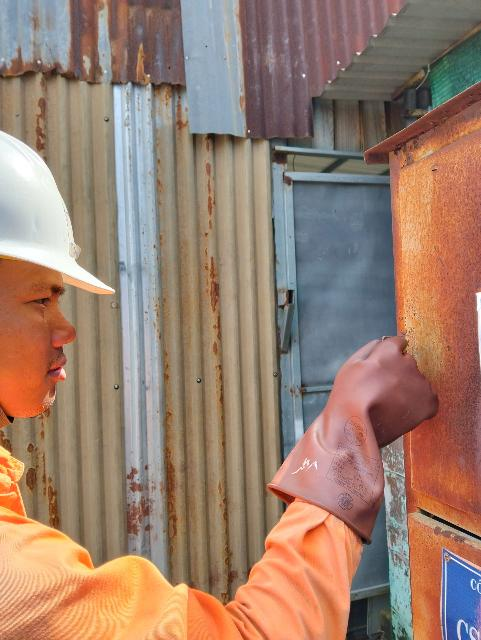gloves: (287, 318, 446, 572)
helmet: (0, 93, 153, 303)
